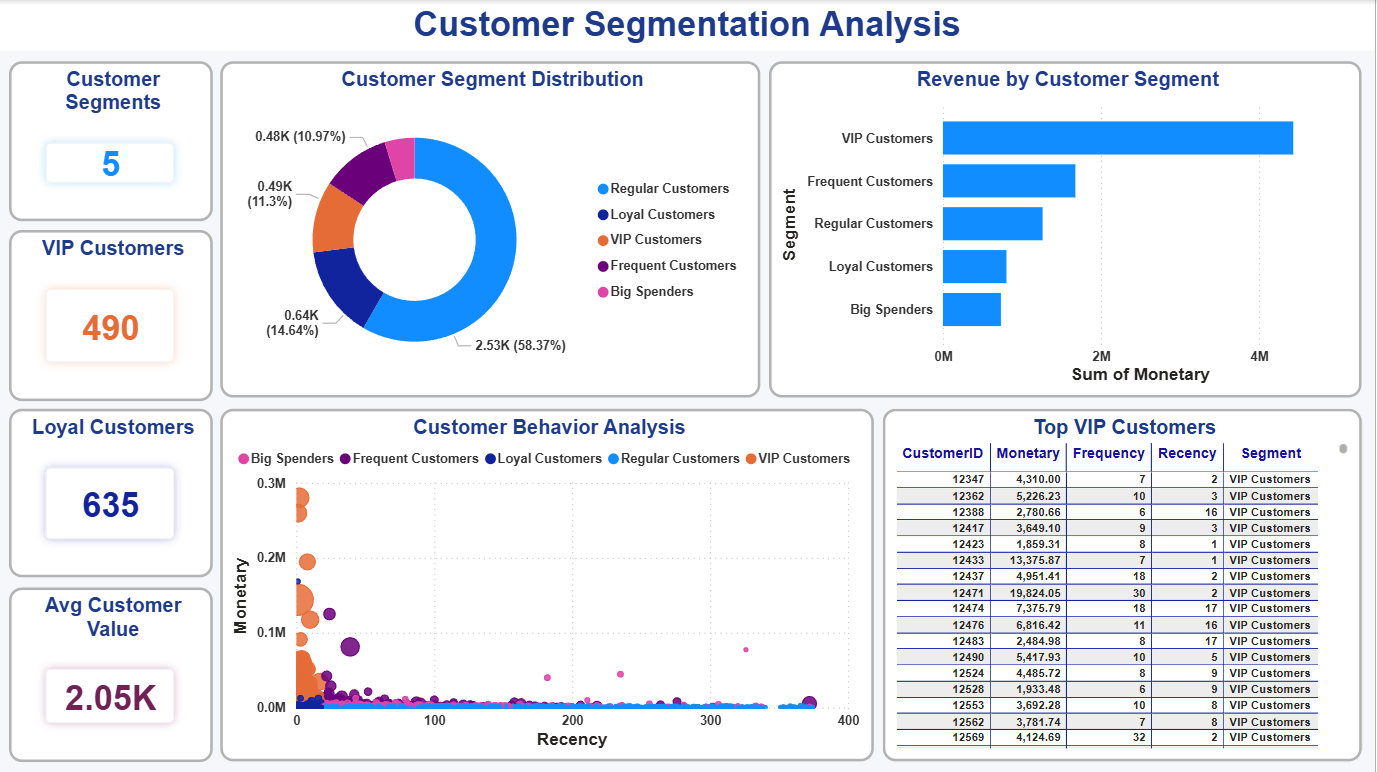

The dashboard page shown, as its layout file describes it:
{"tool":"powerbi","page":{"name":"Customer Segmentation Analysis","canvas":[1280,720],"ordinal":1},"visuals":[{"type":"textbox","box":[0,0,1280.4,47.3],"z":0},{"type":"cardVisual","title":"Customer Segments","fields":{"Data":["cleaned ecommerce data.Total Segments"]},"box":[8.9,56.8,189.2,149.2],"z":1000},{"type":"cardVisual","title":"VIP Customers","fields":{"Data":["cleaned ecommerce data.VIP Customers"]},"box":[8.9,213.7,189.2,159.2],"z":2000},{"type":"cardVisual","title":"Avg Customer Value","fields":{"Data":["cleaned ecommerce data.Avg Monetary Value"]},"box":[8.9,546.6,189.2,162.5],"z":3000},{"type":"cardVisual","title":"Loyal Customers","fields":{"Data":["cleaned ecommerce data.Loyal Customers"]},"box":[8.9,380.7,189.2,157],"z":4000},{"type":"donutChart","title":"Customer Segment Distribution","fields":{"Category":["rfm customer segments.Segment"],"Y":["CountNonNull(rfm customer segments.CustomerID)"]},"box":[205.9,56.8,502,312.8],"z":5000},{"type":"clusteredBarChart","title":"Revenue by Customer Segment","fields":{"Category":["rfm customer segments.Segment"],"Y":["Sum(rfm customer segments.Monetary)"]},"box":[715.8,56.8,551,312.8],"z":6000},{"type":"scatterChart","title":"Customer Behavior Analysis","fields":{"X":["rfm customer segments.Recency"],"Y":["rfm customer segments.Monetary"],"Series":["rfm customer segments.Segment"],"Size":["Sum(rfm customer segments.Frequency)"]},"box":[205.9,380.7,607.8,328.4],"z":7000},{"type":"tableEx","title":"Top VIP Customers","fields":{"Values":["rfm customer segments.CustomerID","rfm customer segments.Monetary","rfm customer segments.Frequency","rfm customer segments.Recency","rfm customer segments.Segment"]},"box":[821.5,380.7,445.3,328.4],"z":8000}]}

Visuals, with their boxes in screenshot pixels (x1, y1, x2, y2), scaled from the page's 1280x720 canvas onto the 1377x772 screenshot:
textbox: bbox=[0, 0, 1376, 51]
"Customer Segments" cardVisual: bbox=[10, 61, 213, 221]
"VIP Customers" cardVisual: bbox=[10, 229, 213, 400]
"Avg Customer Value" cardVisual: bbox=[10, 586, 213, 760]
"Loyal Customers" cardVisual: bbox=[10, 408, 213, 577]
"Customer Segment Distribution" donutChart: bbox=[222, 61, 762, 396]
"Revenue by Customer Segment" clusteredBarChart: bbox=[770, 61, 1363, 396]
"Customer Behavior Analysis" scatterChart: bbox=[222, 408, 875, 760]
"Top VIP Customers" tableEx: bbox=[884, 408, 1363, 760]
